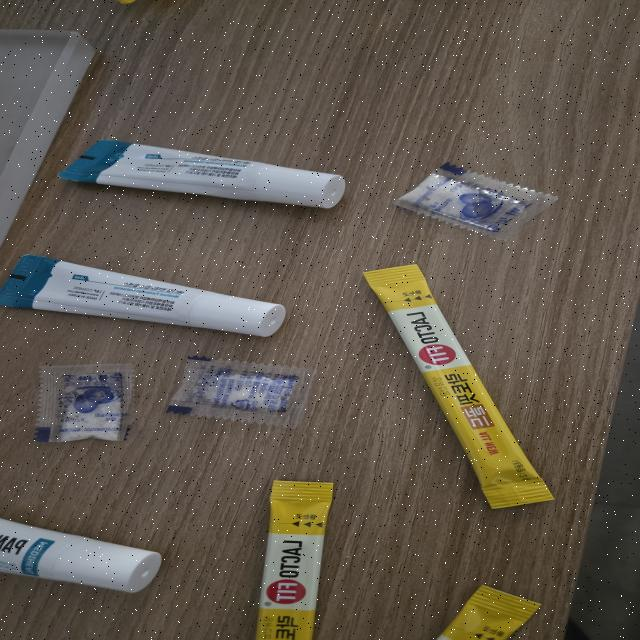lacto: (360, 260, 558, 512), (255, 478, 344, 640), (424, 574, 541, 640)
lib: (0, 248, 298, 339), (51, 136, 348, 214), (0, 488, 169, 604)
salt: (391, 150, 564, 240), (151, 354, 334, 426), (23, 361, 141, 454)
